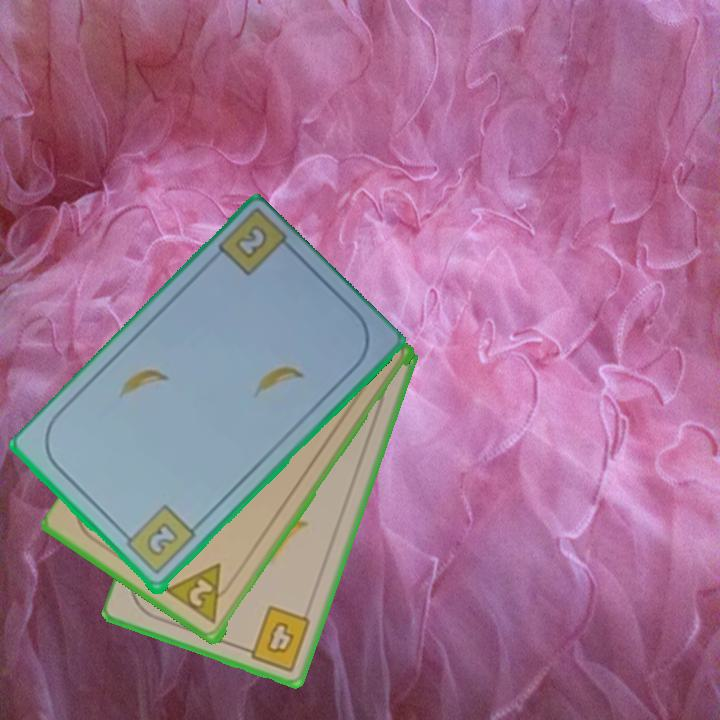2b: (118, 502, 199, 578), (231, 221, 271, 263)
2p: (164, 560, 238, 629)
4b: (237, 602, 314, 675)
